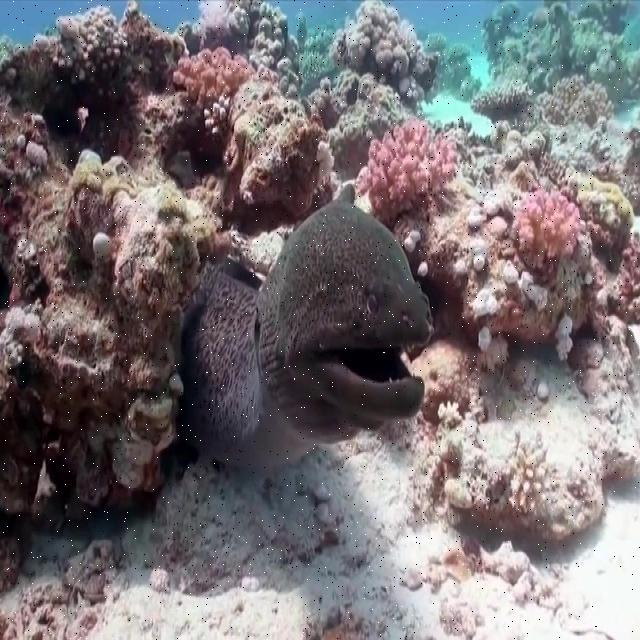fish: (175, 200, 433, 474)
reefs: (0, 0, 639, 593)
